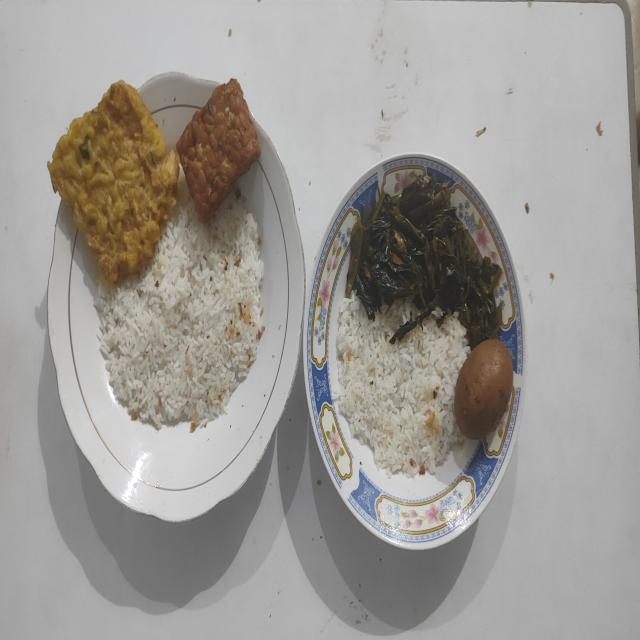nasi_putih: (95, 180, 264, 430), (336, 298, 469, 478)
tempe_goreng: (177, 79, 260, 221)
tumis_kangkung: (346, 169, 502, 350)
